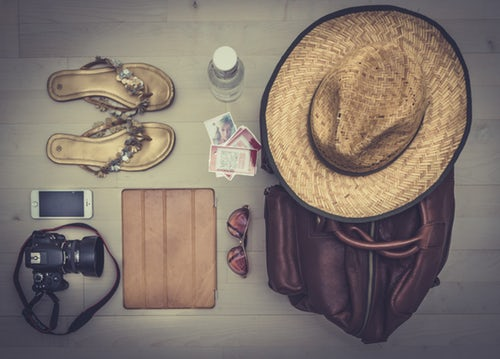phone: (30, 185, 93, 219)
